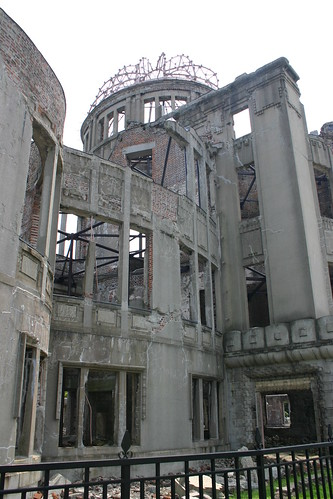building: (1, 11, 329, 466)
